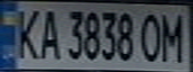3: (60, 6, 84, 61), (100, 7, 121, 61)
8: (115, 8, 139, 62), (81, 7, 103, 61)
A: (33, 6, 63, 61)
K: (9, 4, 45, 61)
M: (157, 9, 187, 63)
O: (136, 9, 166, 63)
